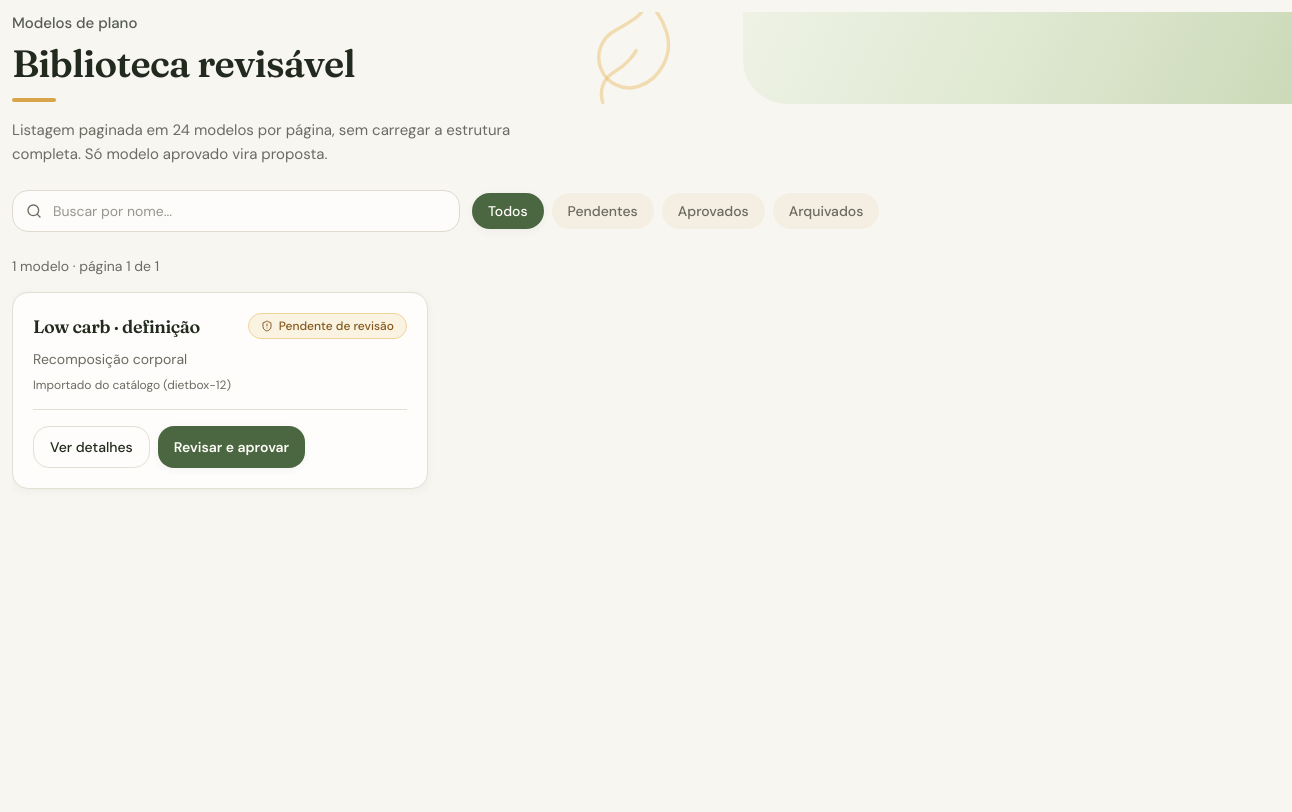
Test case: Templates › requires a written review before approving
Click the button "Revisar e aprovar".
click(231, 447)  # box [158,426,305,468]
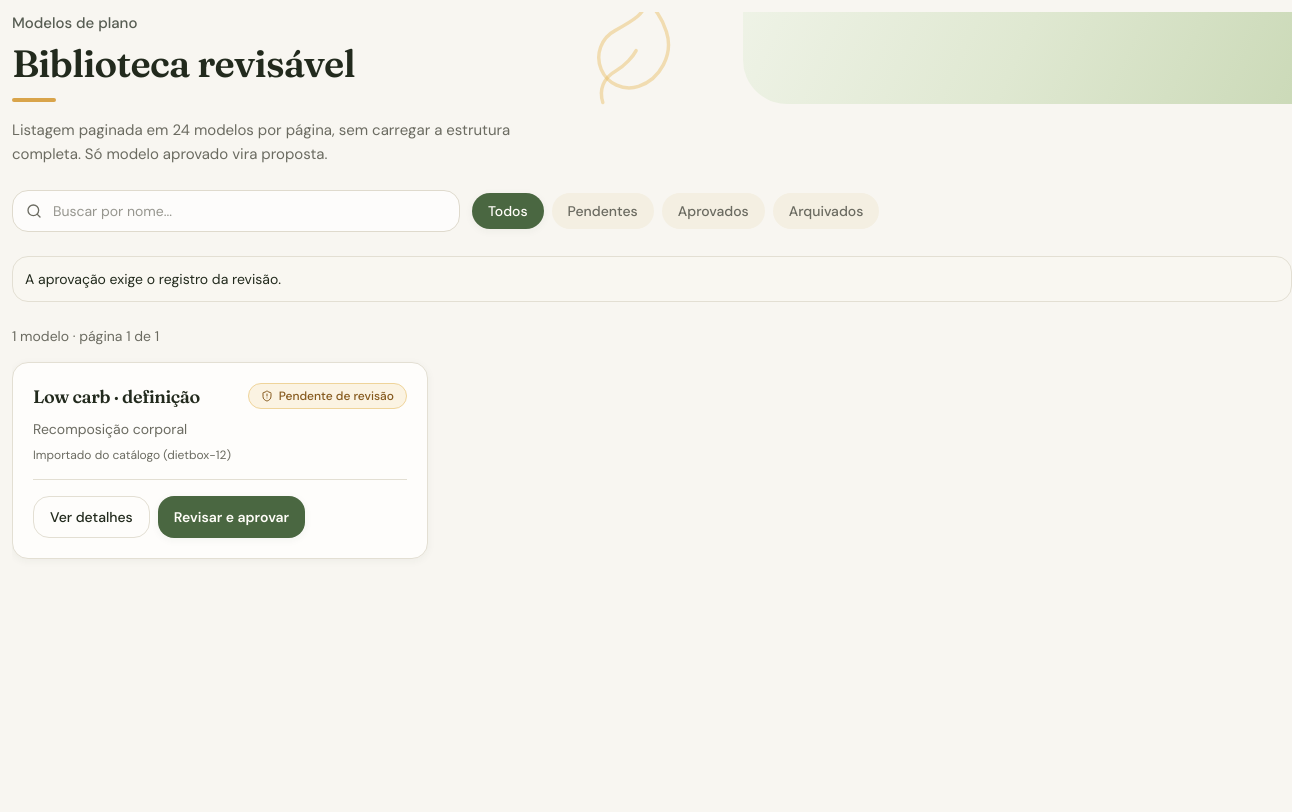
Now the text "A aprovação exige o registro da revisão." is shown, box [12,256,1291,302]
